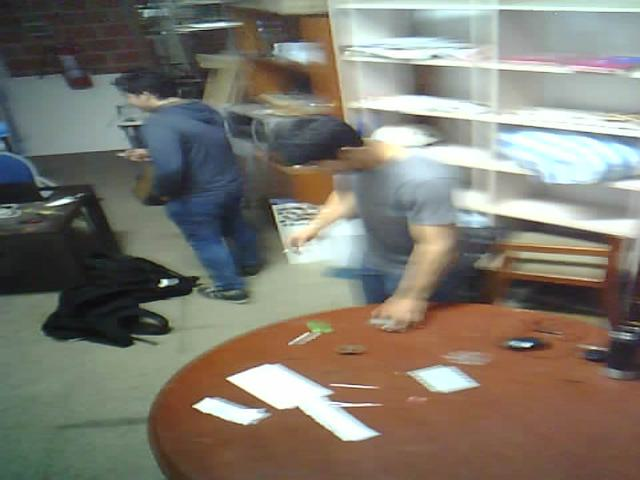person: (255, 109, 491, 340), (101, 52, 274, 316)
